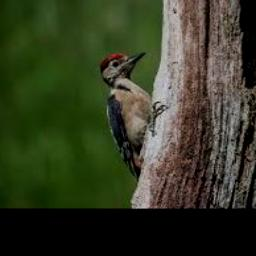Woodpecker: (100, 52, 153, 179)
